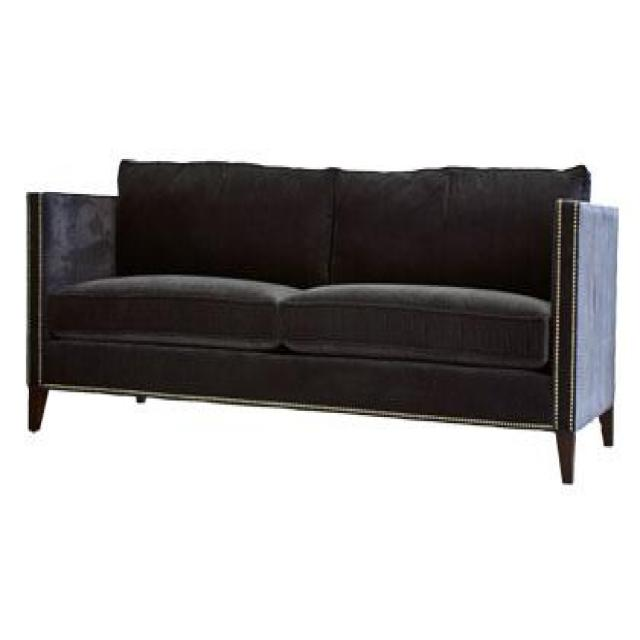sofa: (24, 157, 619, 483)
